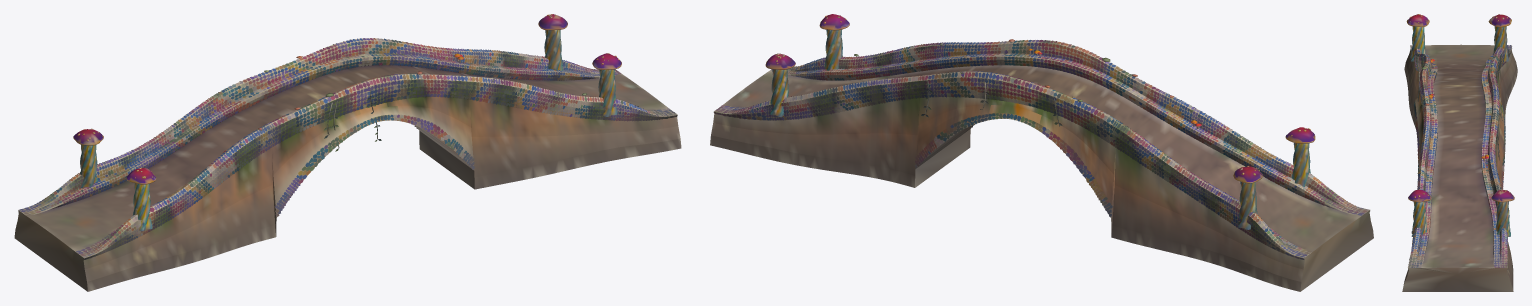
Rendered from kopru_gaudi_mozaik.glb.
3 renders of one model, left to right at view 1: azimuth 30°, elevation 25°; view 2: azimuth 150°, elevation 25°; view 3: azimuth 270°, elevation 25°, orthographic. The views are drawn at different scales.
Visible parts, largest first — view 1: kopru_gaudi_mozaik_LOD0; view 2: kopru_gaudi_mozaik_LOD0; view 3: kopru_gaudi_mozaik_LOD0.
Part boxes in pixels (x1,y1,x2,y2): kopru_gaudi_mozaik_LOD0: [14, 14, 681, 291]; kopru_gaudi_mozaik_LOD0: [710, 14, 1373, 291]; kopru_gaudi_mozaik_LOD0: [1402, 14, 1517, 291].
Size of what is drawn, in the model's own units: 30.03 by 6.37 by 6.56.
